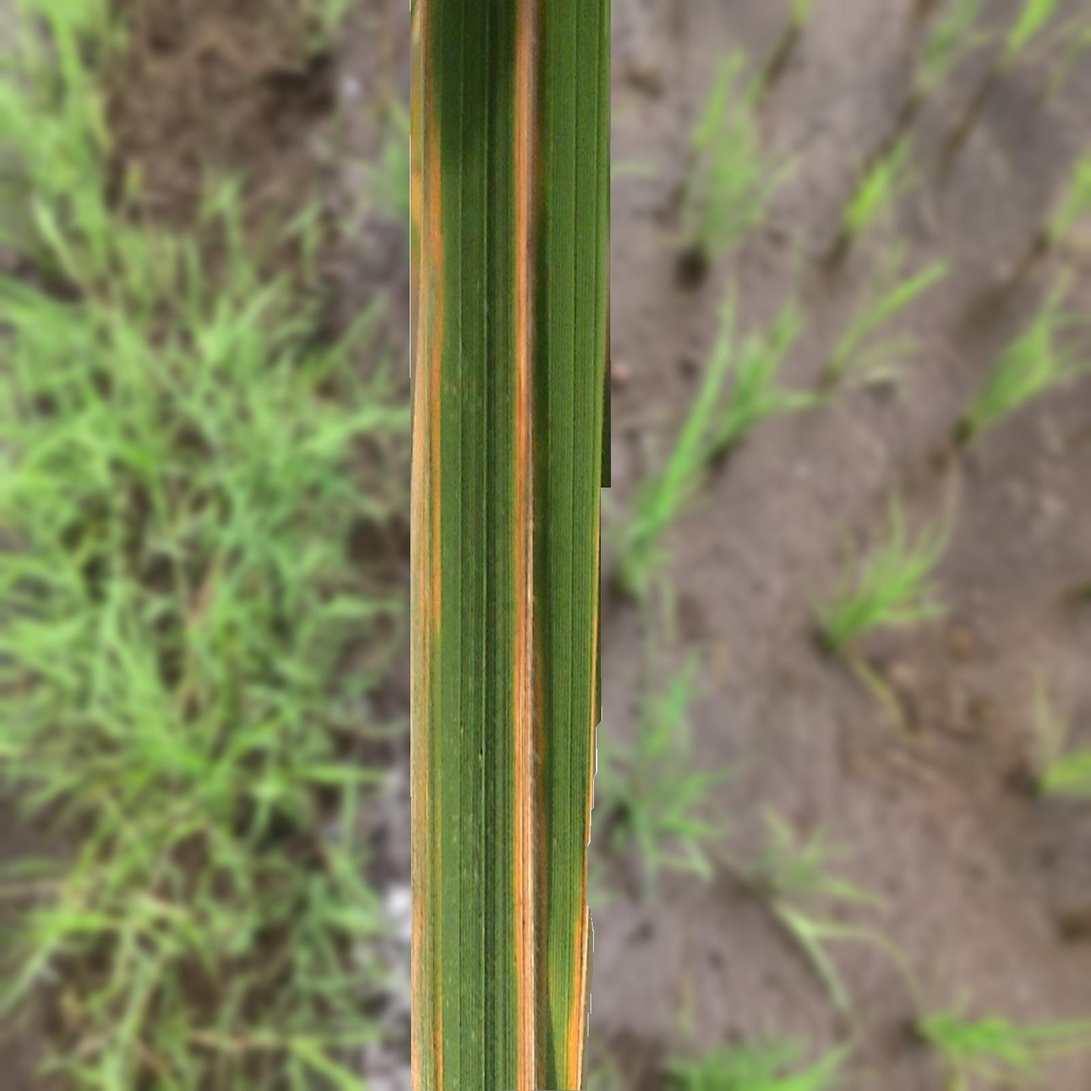BLS: (411, 0, 443, 1090), (513, 0, 539, 1090)
LEAF: (410, 0, 611, 1090)
